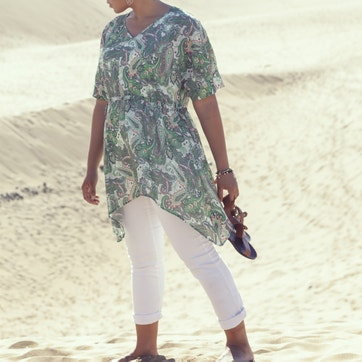C_W_pants: (115, 194, 249, 330)
C_short blouse: (93, 9, 241, 246)
